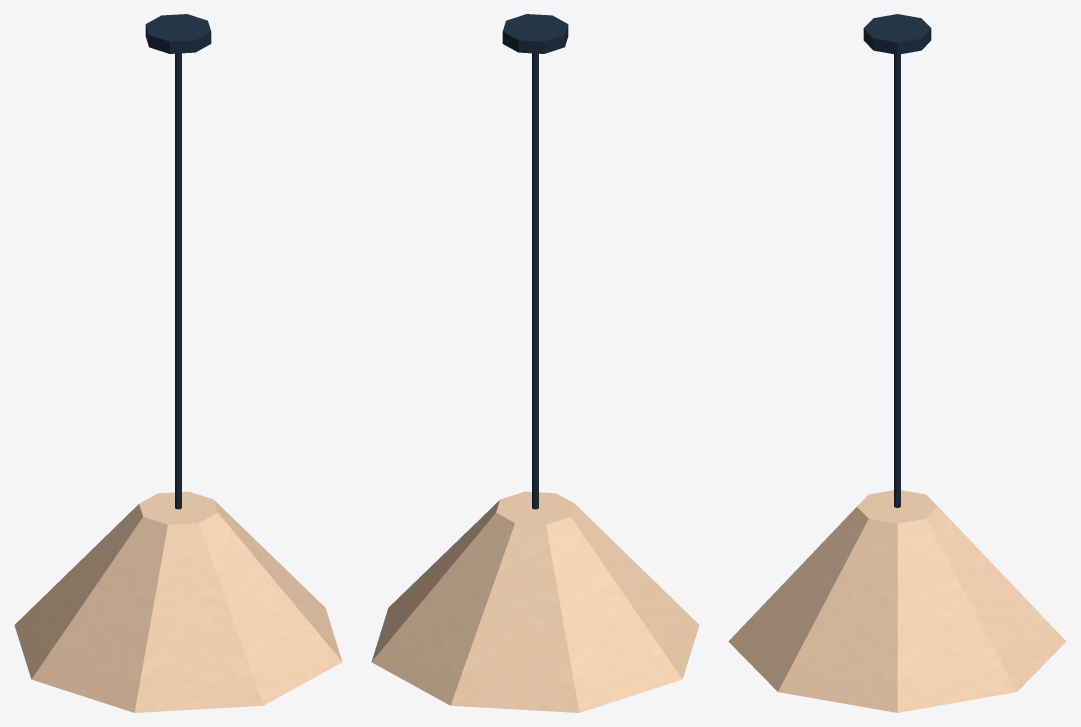
Rendered from Lamp_Pendant.fbx.
The picture shows the model from 3 angles, left to right: view 1: azimuth 30°, elevation 25°; view 2: azimuth 150°, elevation 25°; view 3: azimuth 270°, elevation 25°; orthographic projection.
Visible parts, largest first — view 1: Lamp_Pendant; view 2: Lamp_Pendant; view 3: Lamp_Pendant.
Boxes of the visible parts, box(x1,y1,x2,y2) form: Lamp_Pendant: box(14, 14, 342, 712); Lamp_Pendant: box(371, 14, 699, 712); Lamp_Pendant: box(728, 14, 1066, 712).
Bounding box in the file's own units: 0.5 × 1 × 0.5.
1 material, 1 textured.
